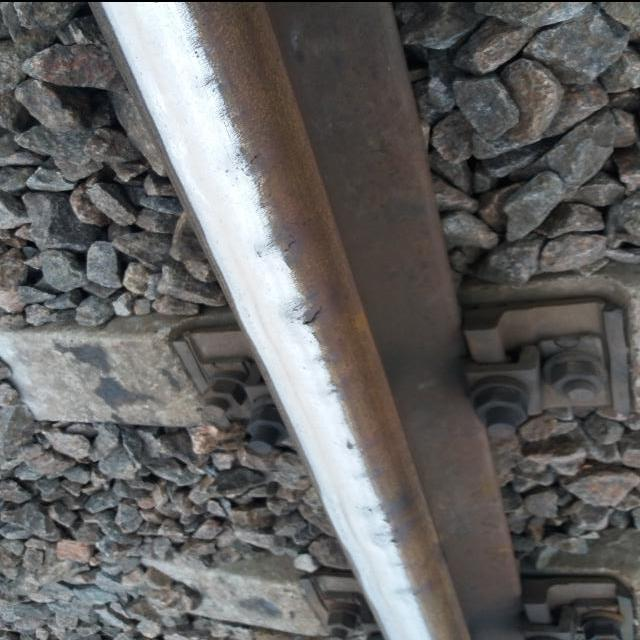broken_rail_medium: (300, 302, 325, 326), (241, 152, 259, 177), (282, 236, 299, 254), (190, 40, 206, 56), (390, 525, 401, 547), (355, 504, 375, 512), (252, 244, 263, 258), (347, 437, 355, 449)
